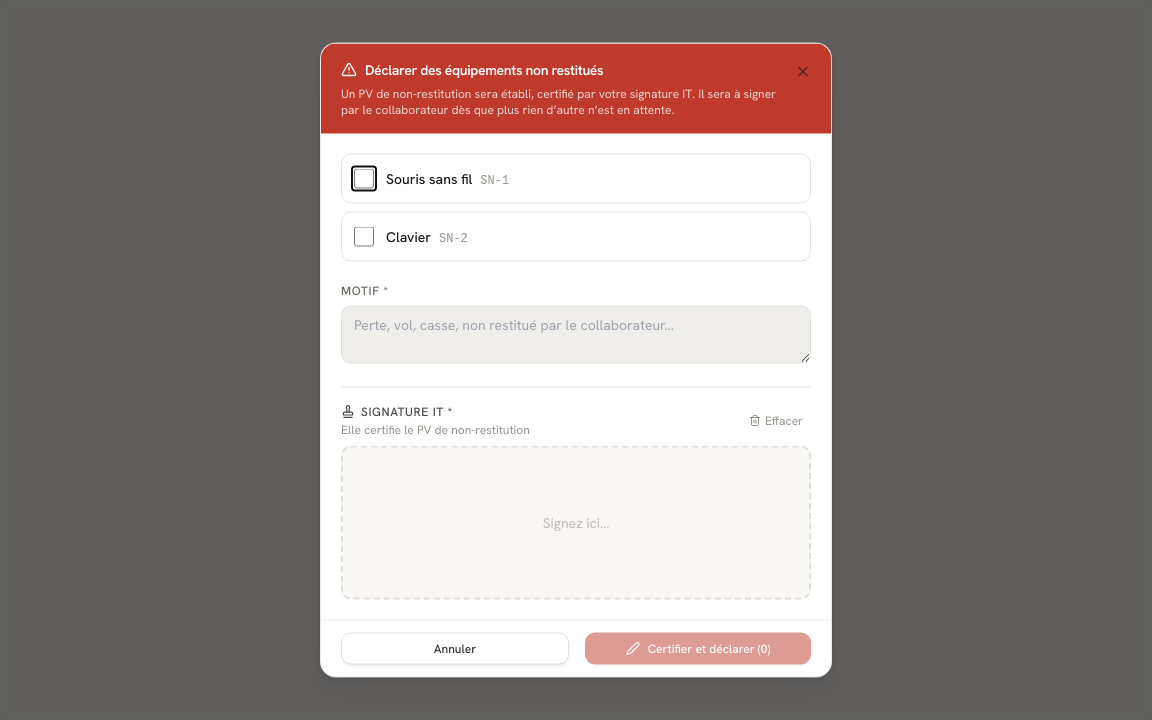
Test: DeclareNotReturnedModal › refuse la soumission sans motif renseigné
What coordinates should you click on to do the following:
click the 1st checkbox
I would click on:
 (364, 178)
Its box is [354,168,374,188].
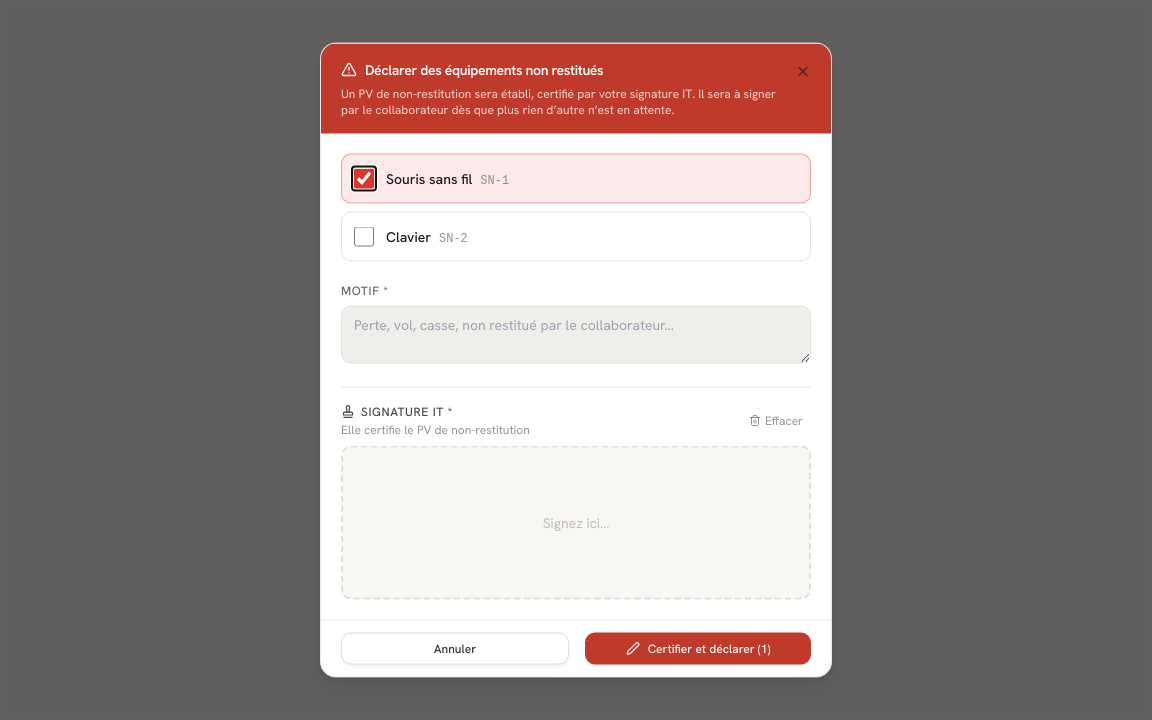
What coordinates should you click on to do the following:
click the button "Certifier et déclarer (1)"
I would click on:
 (698, 648)
Its box is [585,632,811,664].
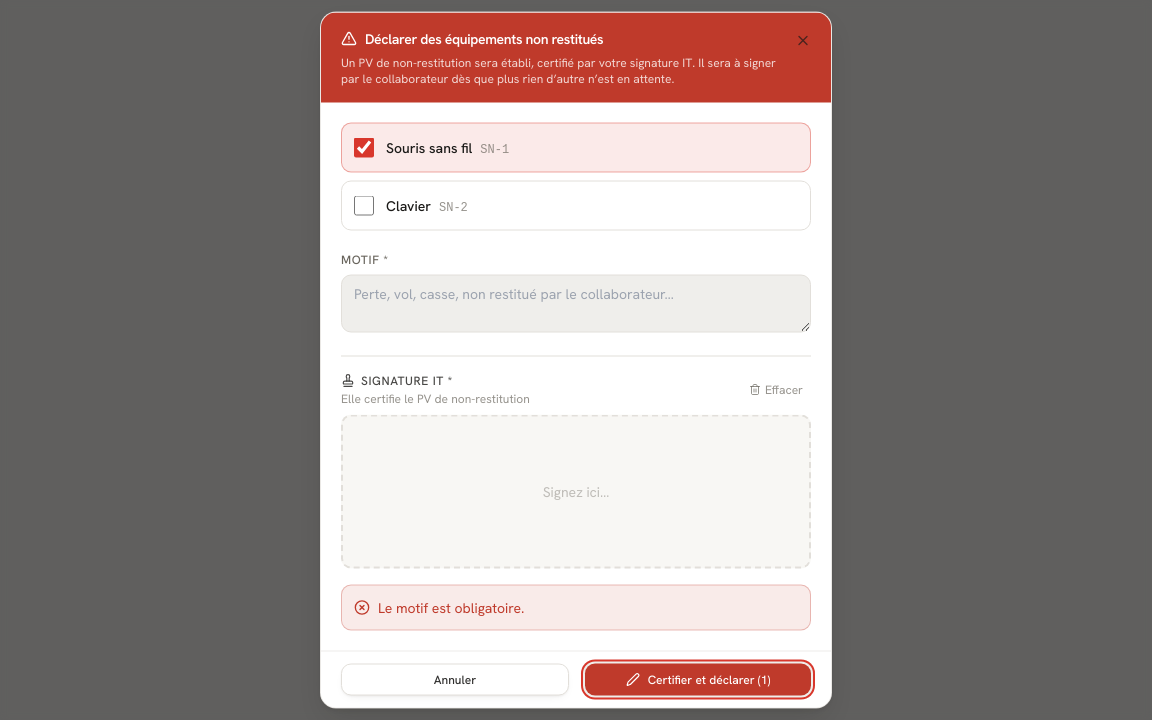
Expected: the text "Le motif est obligatoire." is shown, [378,598,524,618]
